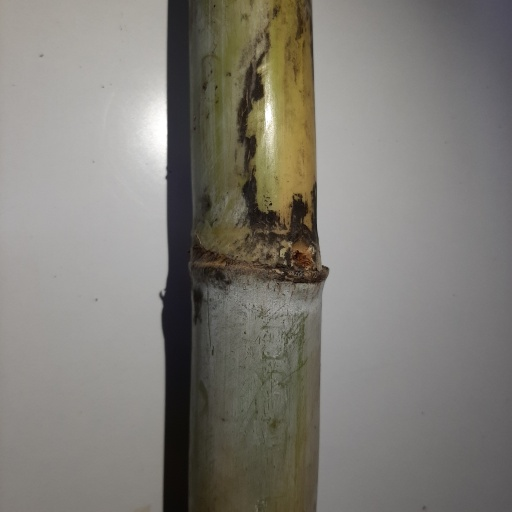Damage_Bud: (289, 236, 316, 271)
